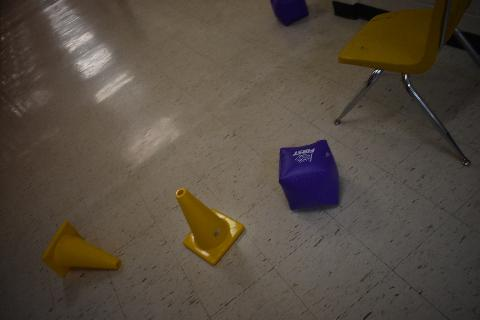cone: (174, 187, 246, 267), (40, 219, 122, 279)
cube: (278, 139, 341, 211), (270, 0, 310, 28)
